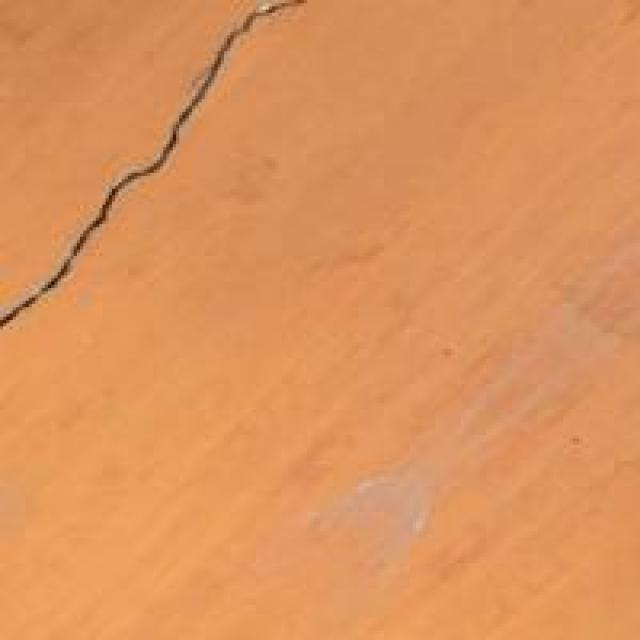crack: (0, 0, 329, 406)
